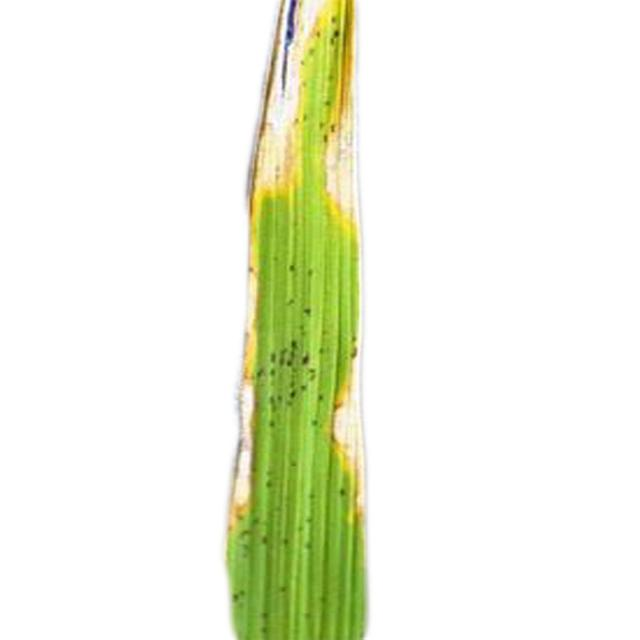Leaf scald: (181, 0, 474, 640)
